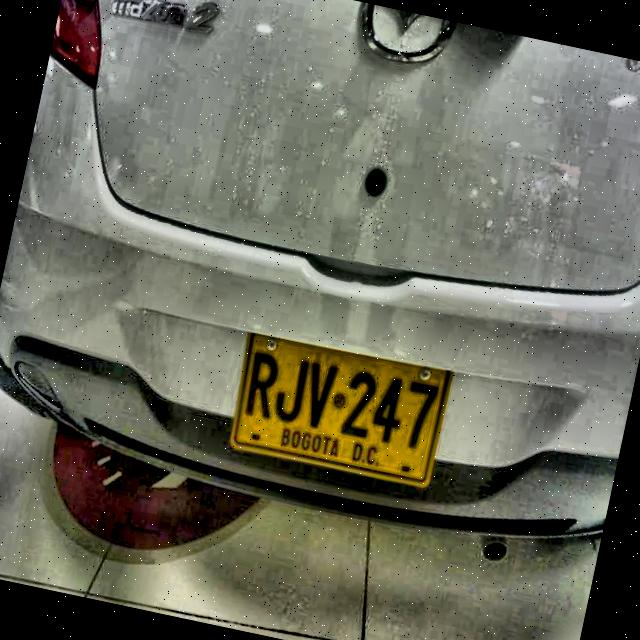plate: (233, 333, 451, 485)
